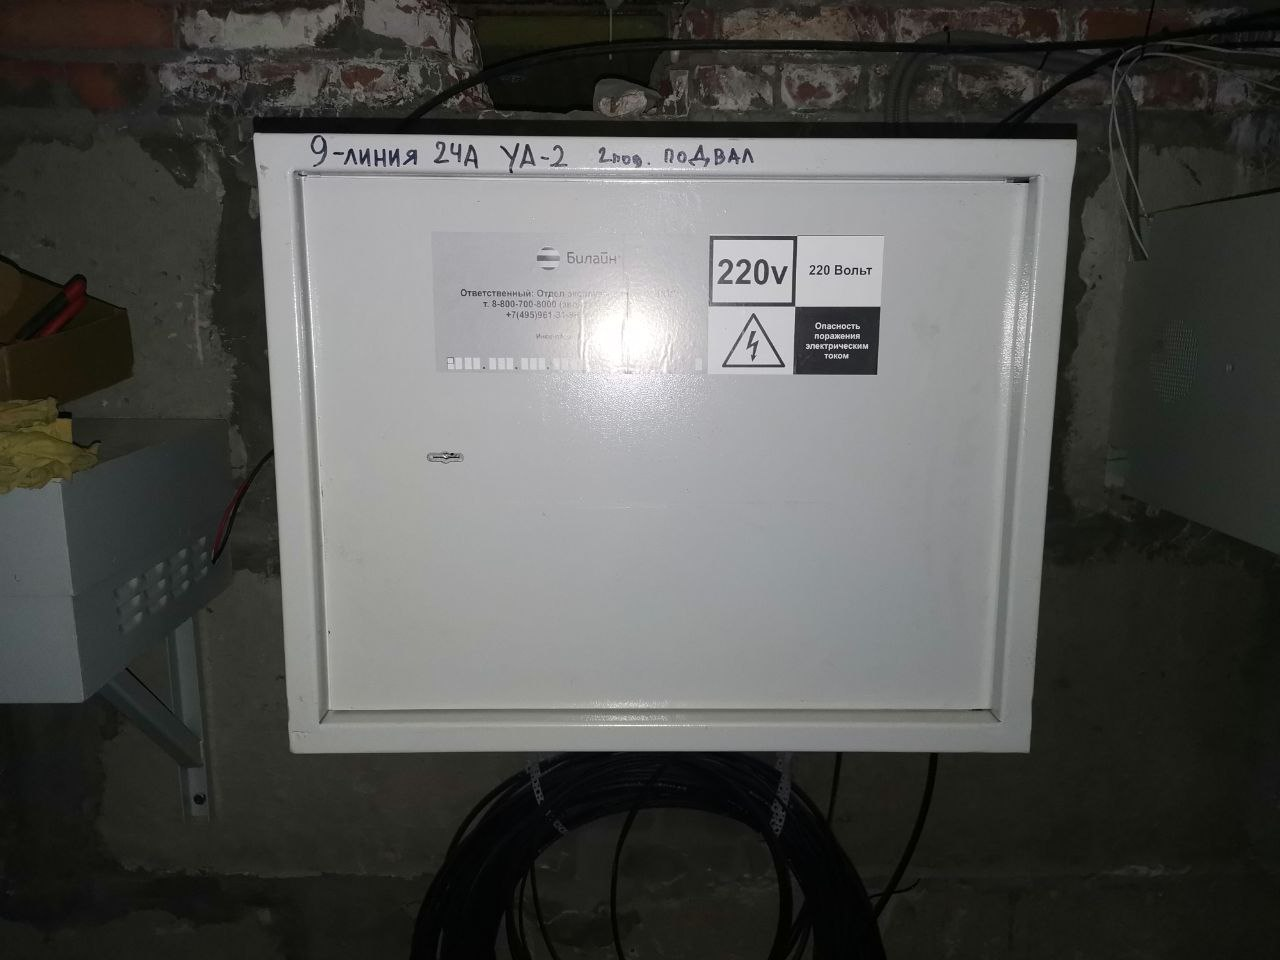shta-9m: (241, 129, 1086, 758)
